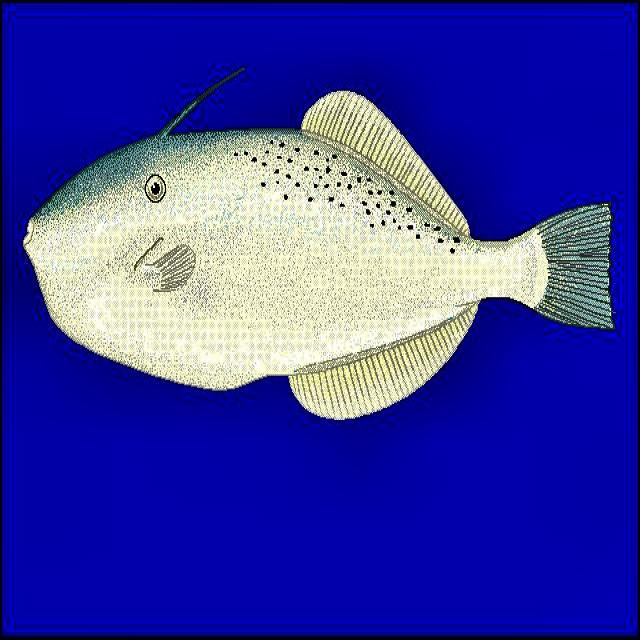fish: (21, 67, 616, 422)
